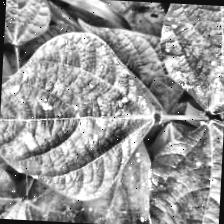Bean Rust: (0, 26, 163, 206), (148, 118, 224, 224), (157, 2, 224, 115)
